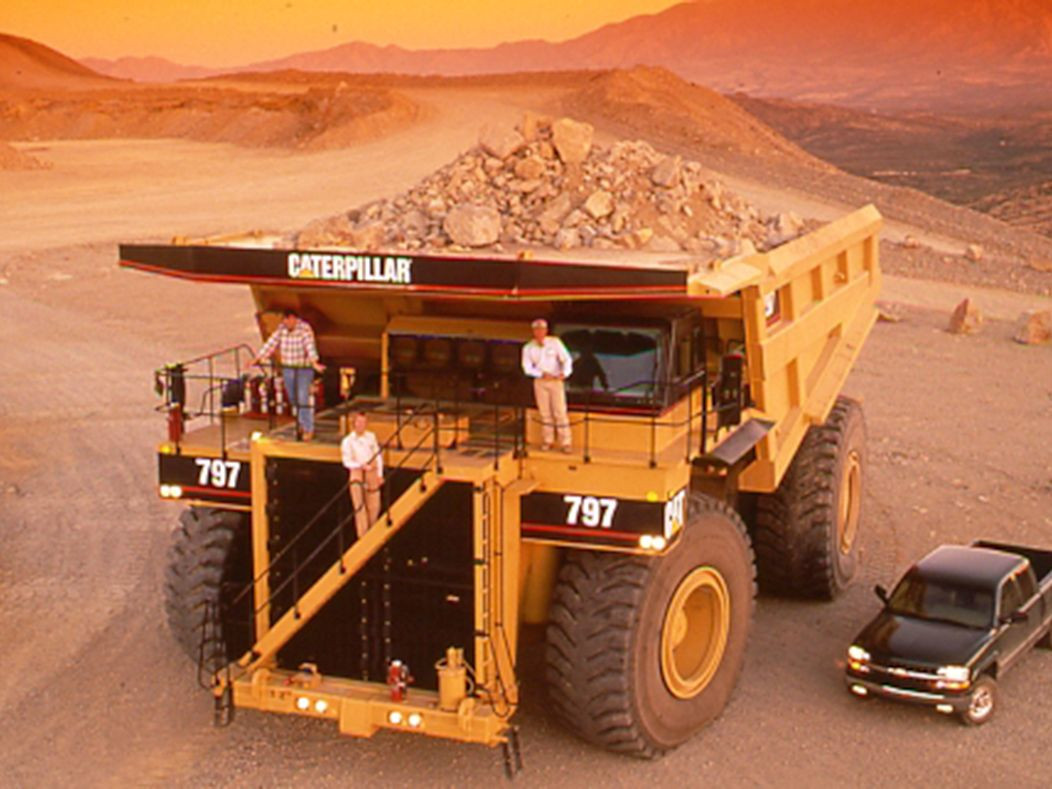truck: (114, 202, 883, 781)
